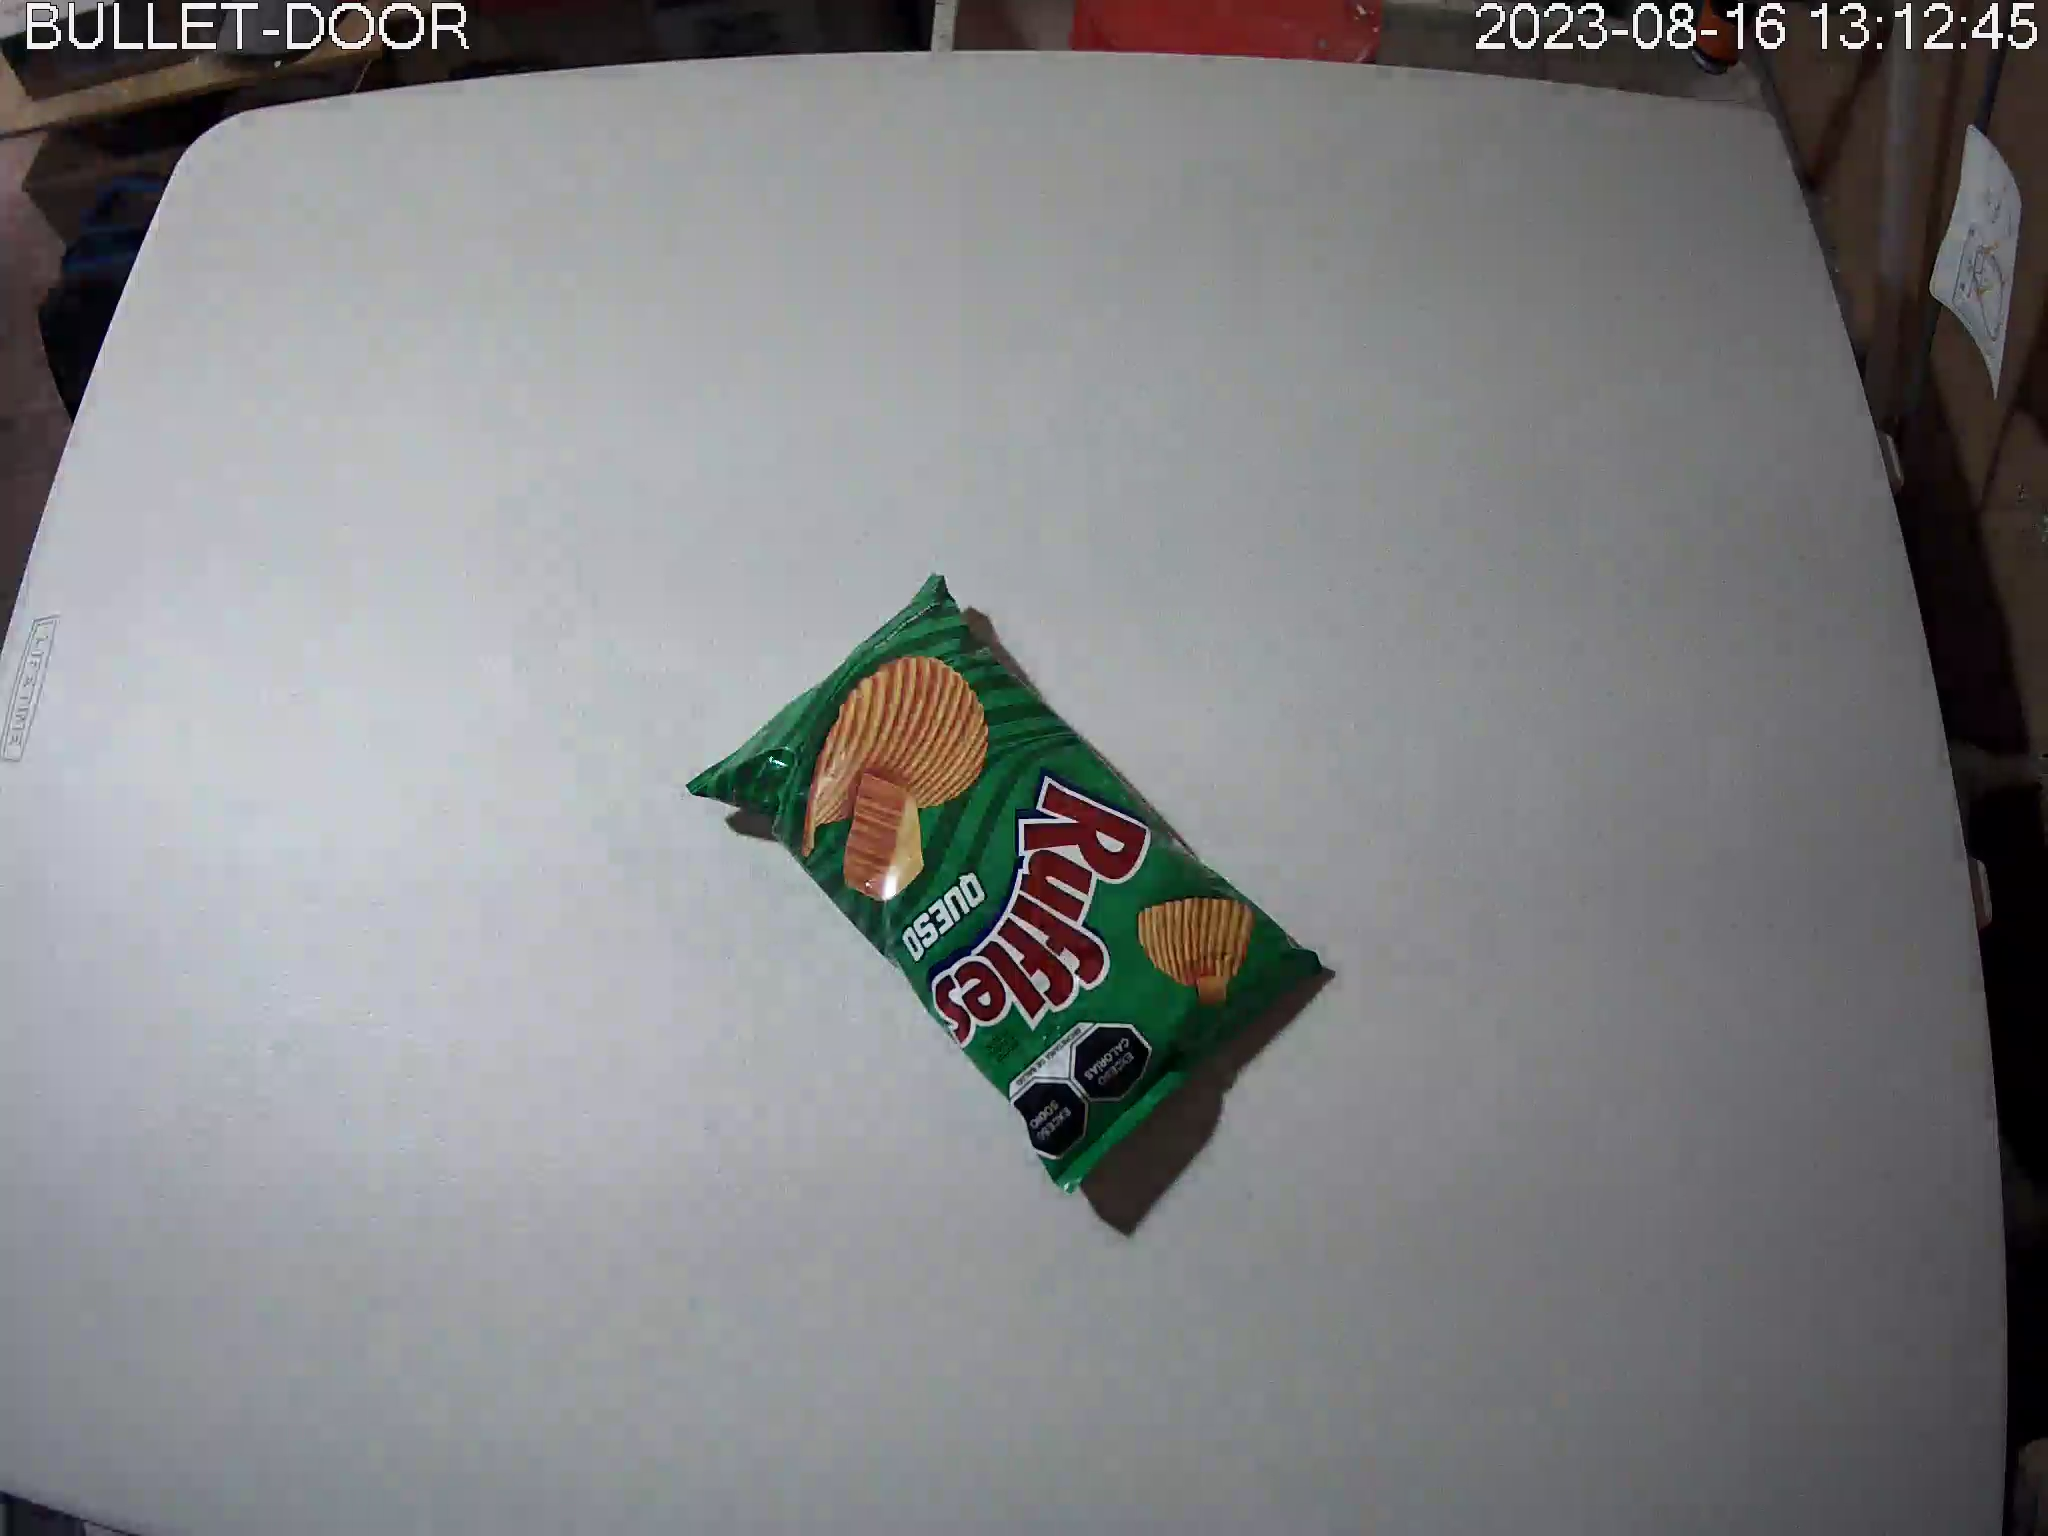RufflesQ_48_F: (685, 573, 1329, 1199)
